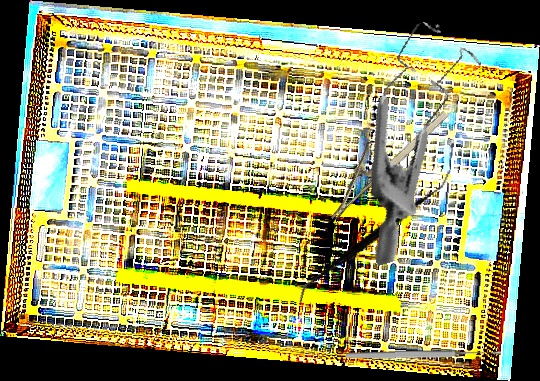Needle Holder: (309, 91, 452, 222)
Spatula Surgical: (297, 136, 453, 339)
Speculum: (313, 9, 529, 267)
Surgical Spoon: (345, 348, 502, 361)
